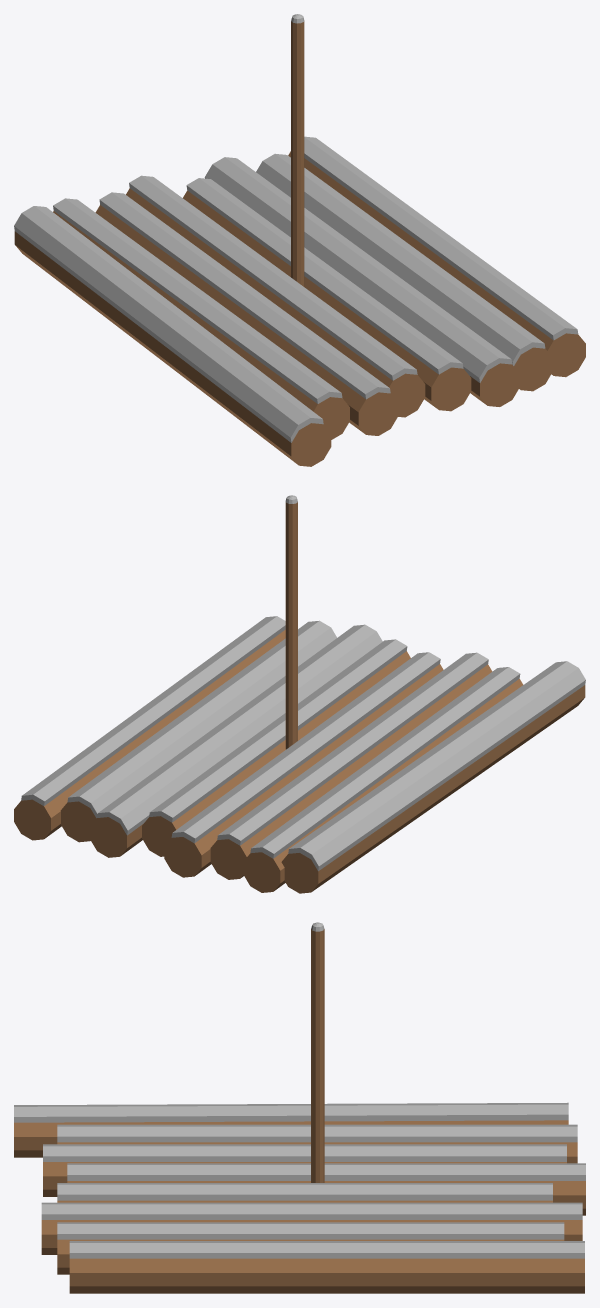
The model's file is Boat_1 winter.fbx.
3 renders of one model, top to bottom at view 1: azimuth 30°, elevation 25°; view 2: azimuth 150°, elevation 25°; view 3: azimuth 270°, elevation 25°, orthographic. The views are drawn at different scales.
Visible parts, largest first — view 1: BoatWinter_mesh; view 2: BoatWinter_mesh; view 3: BoatWinter_mesh.
Boxes of the visible parts, left/top/right/bottom form: BoatWinter_mesh: left=14, top=14, right=585, bottom=466; BoatWinter_mesh: left=14, top=495, right=585, bottom=893; BoatWinter_mesh: left=14, top=922, right=585, bottom=1293.
Bounding box in the file's own units: 281 × 253 × 437.
